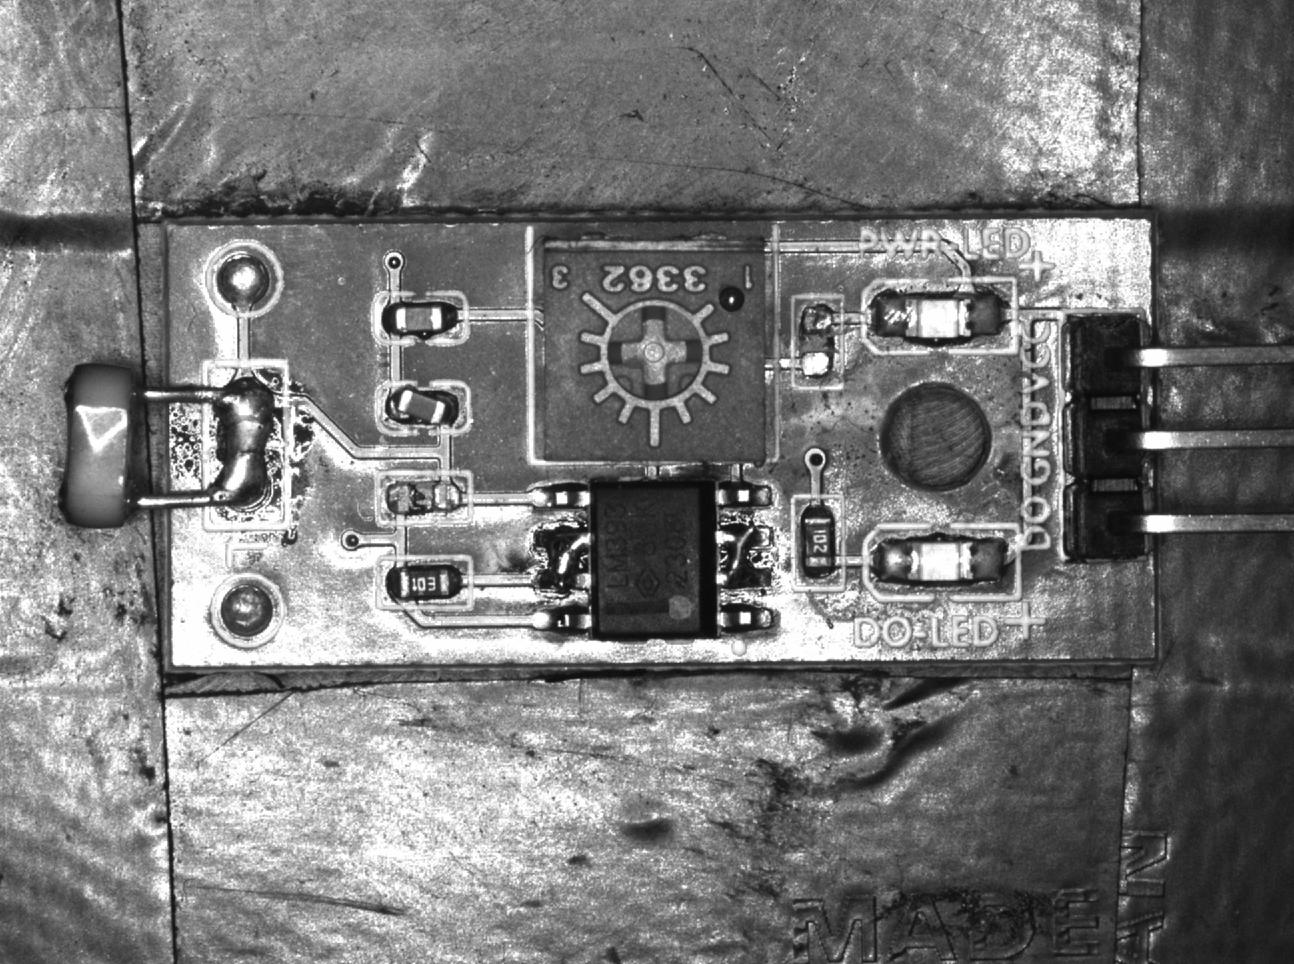bridge: (203, 368, 293, 524), (525, 519, 590, 601), (714, 515, 774, 595)
lifted: (378, 383, 471, 433)
miss: (374, 470, 471, 525), (794, 296, 844, 392)
ok: (791, 495, 845, 595), (374, 557, 473, 609), (373, 293, 467, 345)
